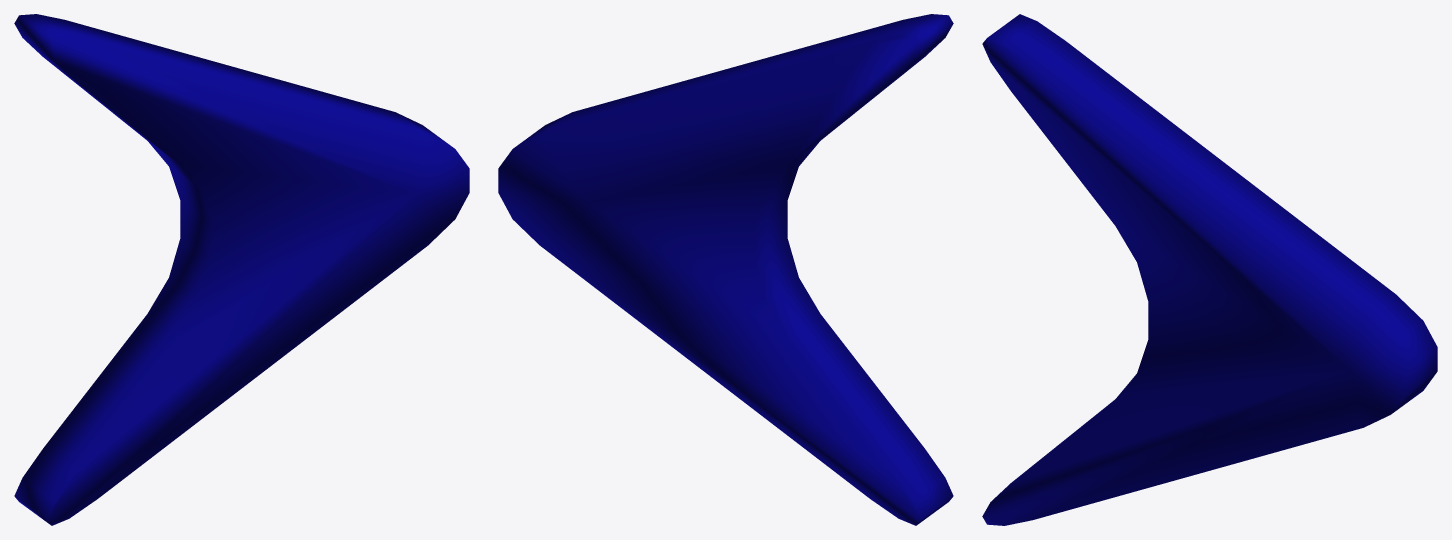
File: flechas.glb
The picture shows the model from 3 angles, left to right: view 1: azimuth 30°, elevation 25°; view 2: azimuth 150°, elevation 25°; view 3: azimuth 330°, elevation 25°; orthographic projection.
Parts seen in each view (by area): view 1: Plane.001; view 2: Plane.001; view 3: Plane.001.
Part boxes in pixels (bbox=[...]): Plane.001: bbox=[14, 14, 469, 525]; Plane.001: bbox=[498, 14, 953, 525]; Plane.001: bbox=[982, 14, 1437, 525].
Bounding box in the file's own units: 0.0651 × 0.0717 × 0.00874.
